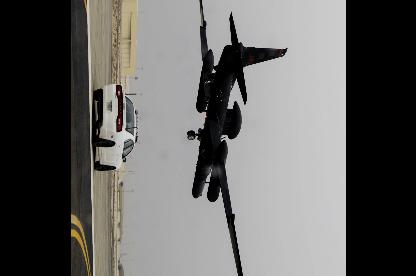Tu160: (186, 0, 288, 273)
